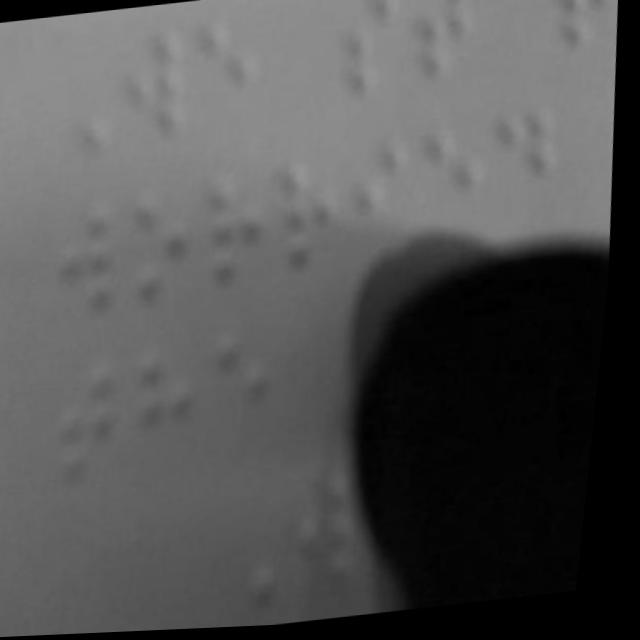braiile: (207, 321, 301, 471), (131, 345, 221, 497), (55, 358, 142, 509), (265, 143, 357, 285), (189, 163, 279, 305), (115, 179, 208, 315), (50, 186, 137, 329), (415, 117, 500, 263), (184, 10, 268, 148), (112, 28, 200, 154), (343, 136, 425, 271), (324, 0, 410, 107)
